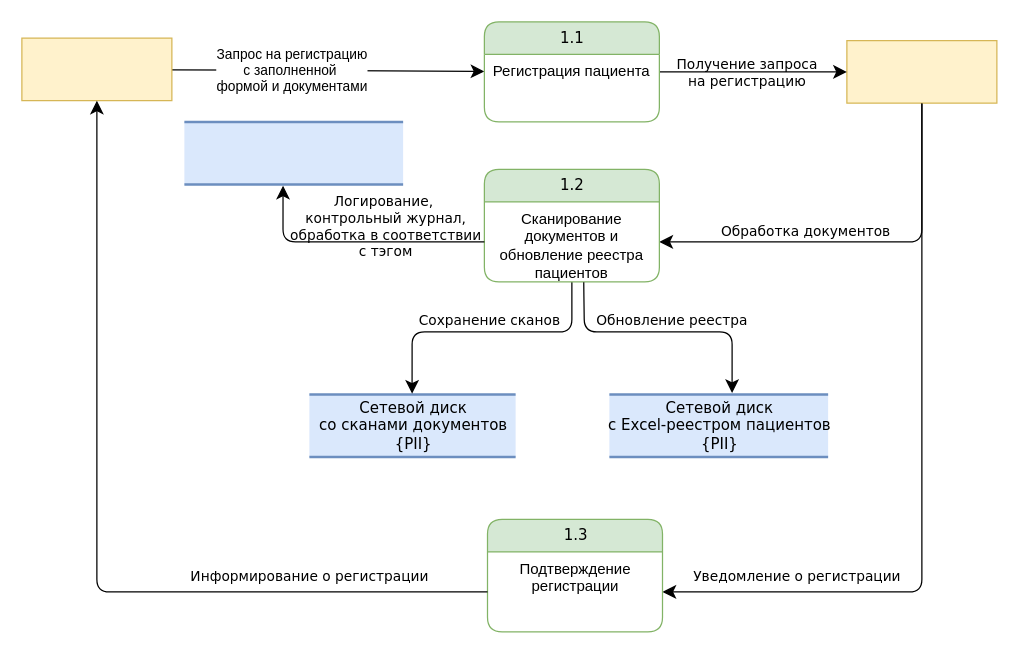
The diagram is 1019 pixels wide and 658 high, and some of its shapes have lost their labels. Each missing label, with the box of its shape:
OneTrust Data Governance: (182, 120, 404, 185)
Администратор: (846, 39, 997, 103)
Пациент: (21, 37, 172, 101)
